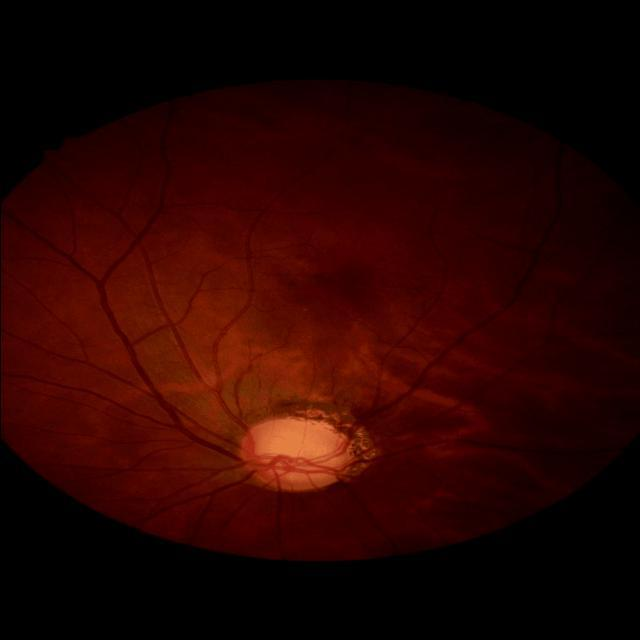cup: (251, 425, 339, 480)
disk: (237, 416, 351, 493)
